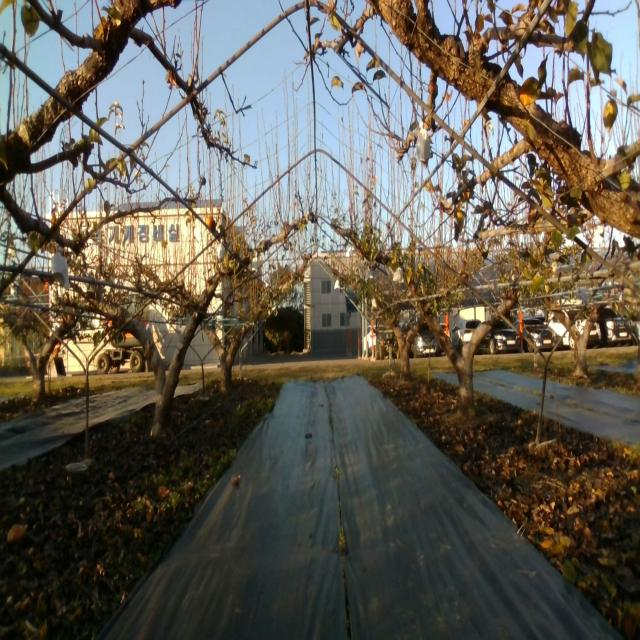pearbags: (51, 245, 71, 292), (416, 121, 430, 170), (392, 266, 404, 284)
